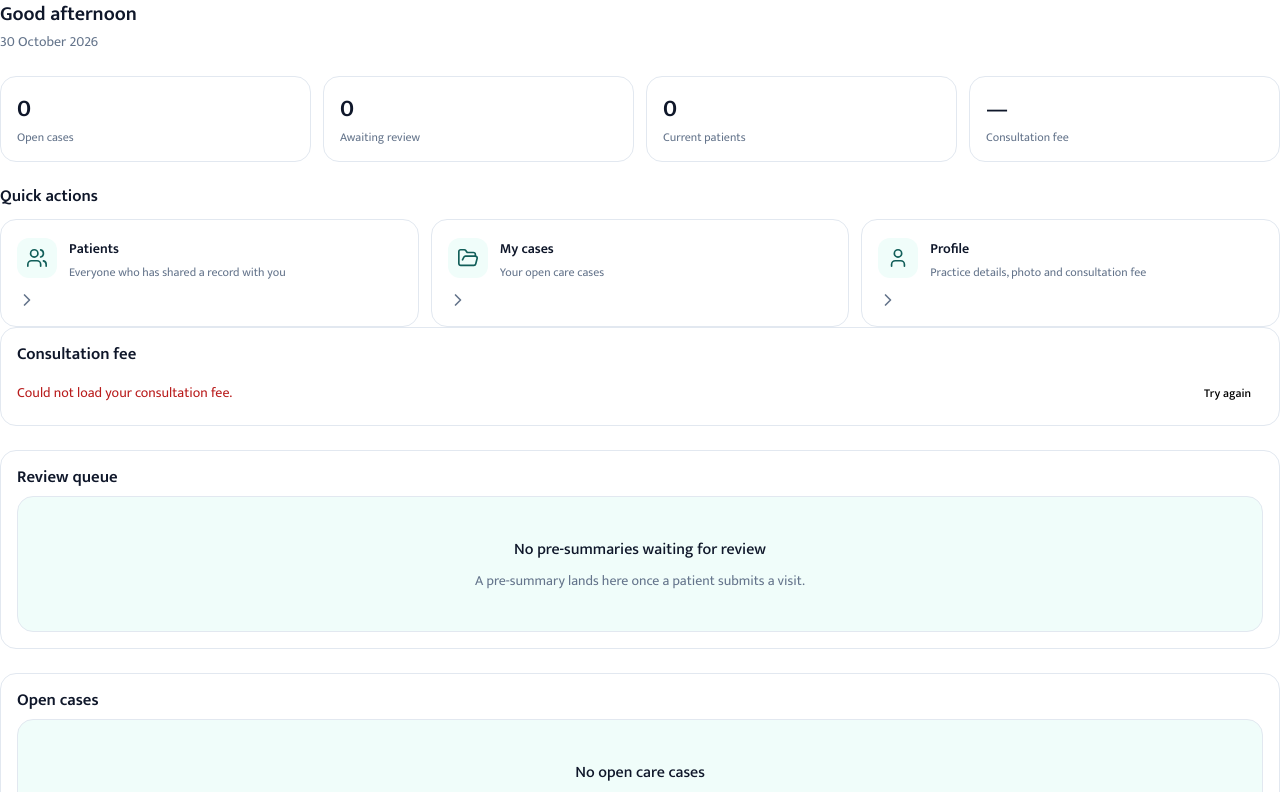
Test case: DoctorDashboardPage consultation-fee summary (#544) › retries just the fee read from the card
This screenshot has width=1280, height=792.
Expected: the message "Could not load your consultation fee." is shown, [17,383,232,403]
Step 1. Click the button with test id "fee-summary-retry" → x=1228, y=393, box [1192,377,1263,409]
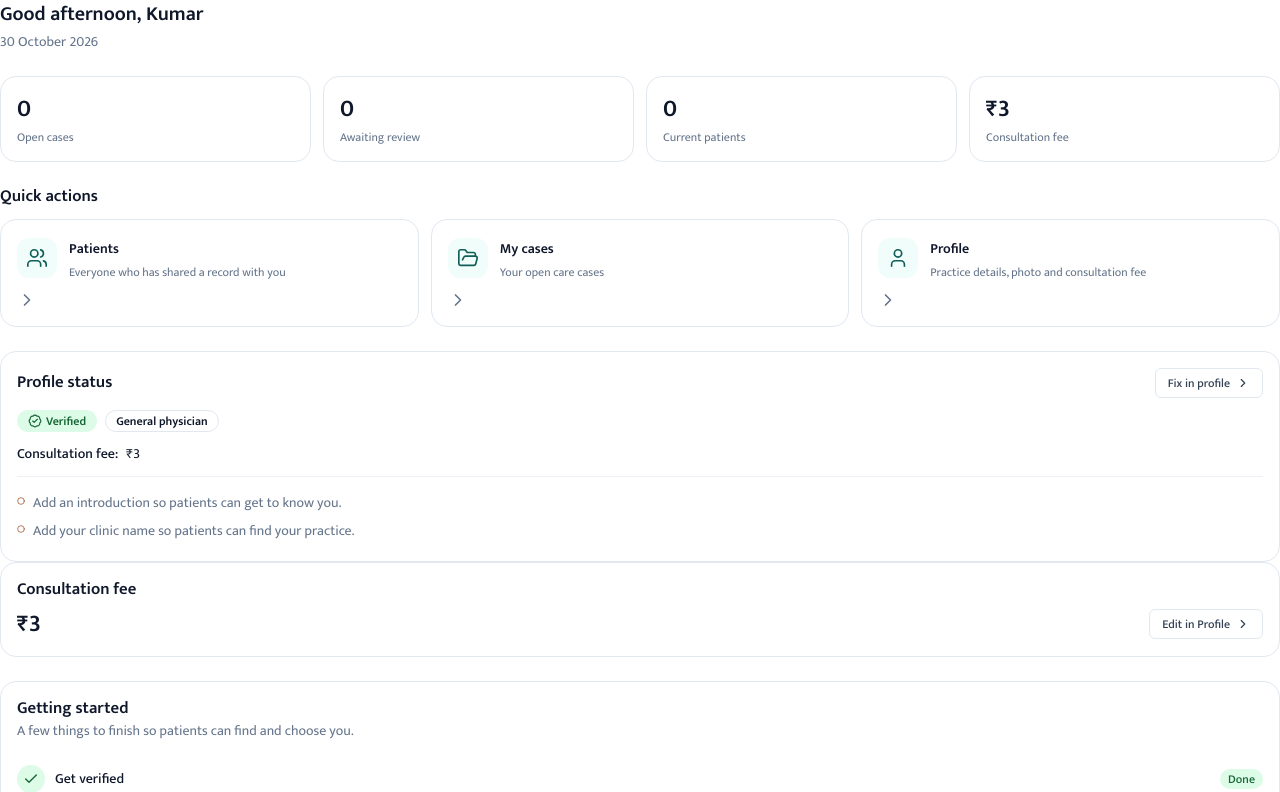
Now the text with test id "fee-summary-value" is shown, box [17,608,41,640]
Now the text with test id "fee-summary-value" reads "₹3", box [17,604,41,644]
